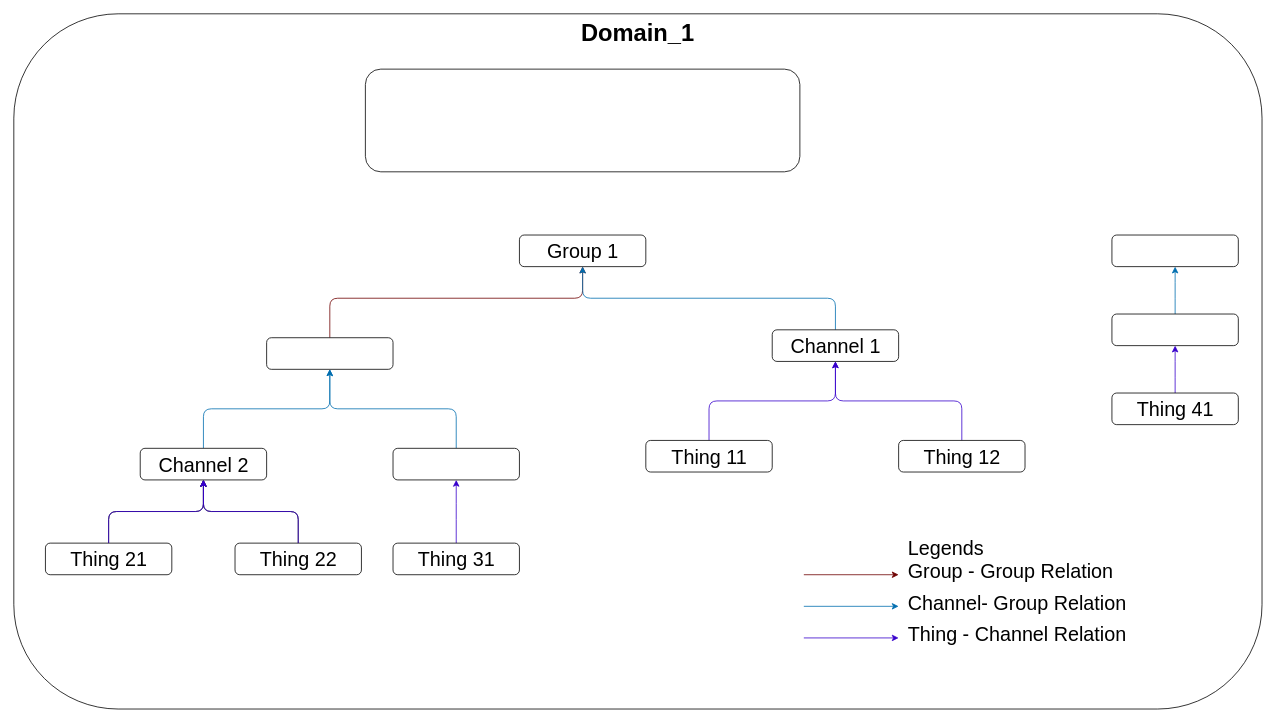
Some shapes in this 1276 by 723 pixel diagram are drawn without their labels. Each missing label, with the centre of its shape:
"Channel 3" goes at (x=455, y=464).
"Channel 4" goes at (x=1174, y=329).
"Group 12" goes at (x=329, y=353).
"Group 2" goes at (x=1174, y=250).
"Member Administrators + Editors + Viewers + User_4" goes at (x=582, y=120).
